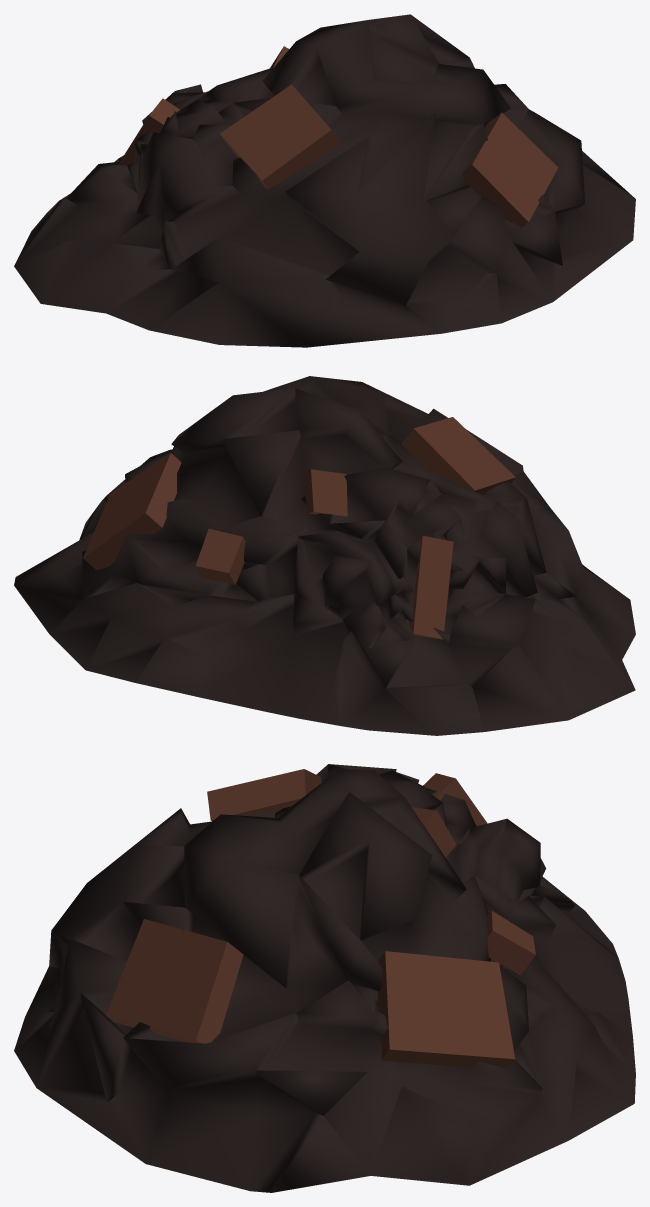
Rendered from pile_a.gltf.
The picture shows the model from 3 angles, top to bottom: view 1: azimuth 30°, elevation 25°; view 2: azimuth 150°, elevation 25°; view 3: azimuth 270°, elevation 25°; orthographic projection. The views are drawn at different scales.
Parts seen in each view (by area): view 1: Pile_A; view 2: Pile_A; view 3: Pile_A.
Boxes of the visible parts, box(x1,y1,x2,y2) form: Pile_A: box(14, 14, 635, 347); Pile_A: box(14, 376, 635, 735); Pile_A: box(14, 764, 635, 1192).
Size of the model in its own units: 5.38 by 1.92 by 4.14.
